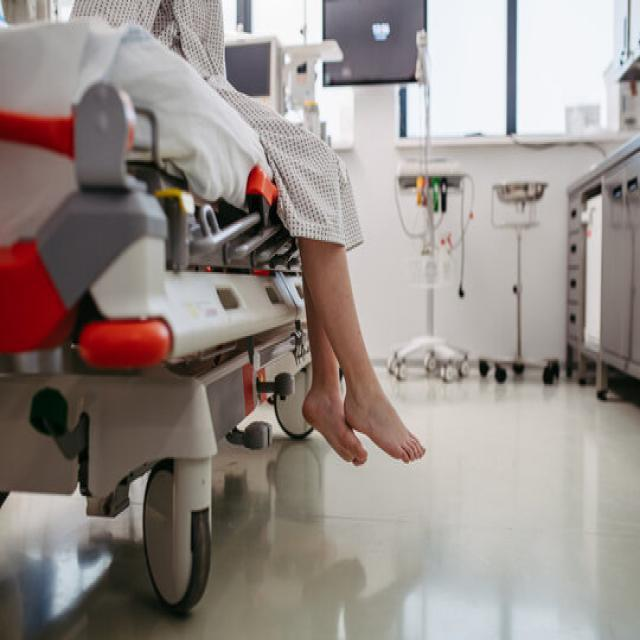Monitor: (318, 0, 431, 88), (214, 30, 284, 116)
bed: (0, 76, 316, 615)
